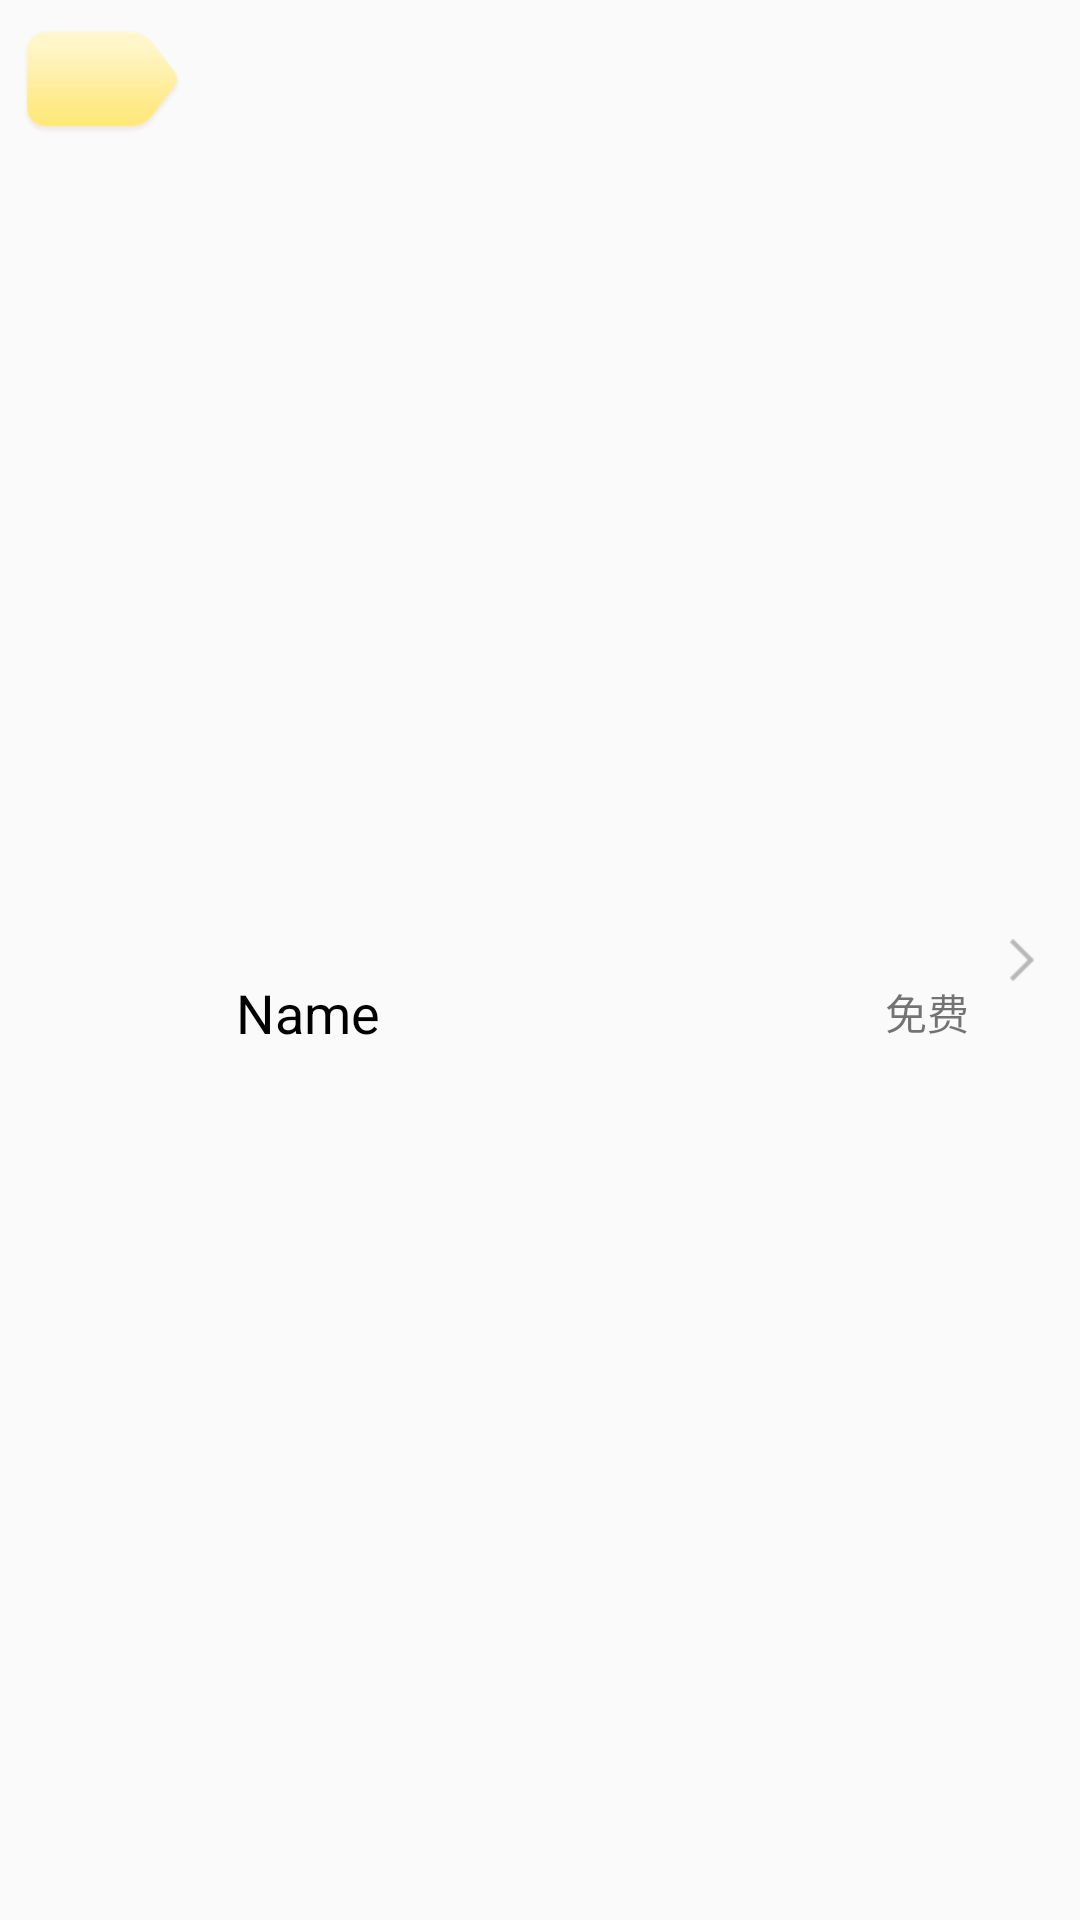

Icon click points for this 1080x1920 phone screenshot, format [x,y]:
into: [1022,960]
